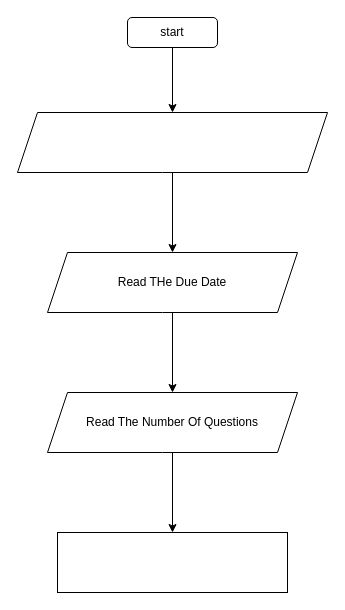
Image size: 345x610. Some labels were removed from this diagram. Here are the shapes that lost their labels. From the top down, the centre of each, then its label:
At [172,142]: "Read The Assignment Date".
At [172,562]: "Calculate the number of date".
